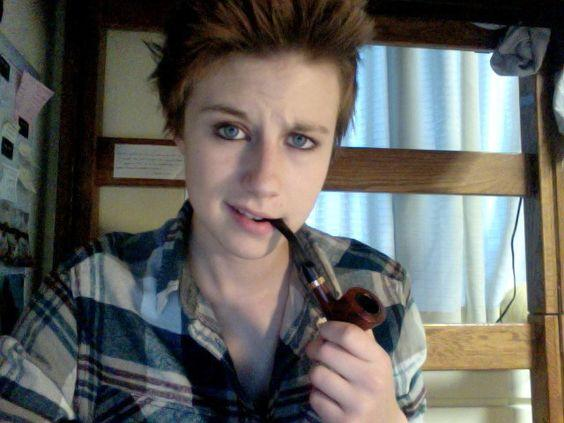trubka: (263, 217, 387, 331)
